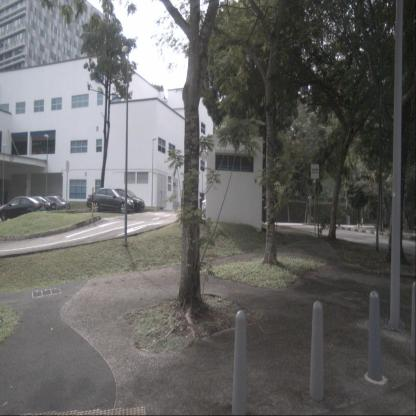vehicle-car: (0, 197, 47, 223), (86, 189, 134, 214), (14, 196, 57, 218), (28, 196, 70, 218), (105, 189, 145, 212)
